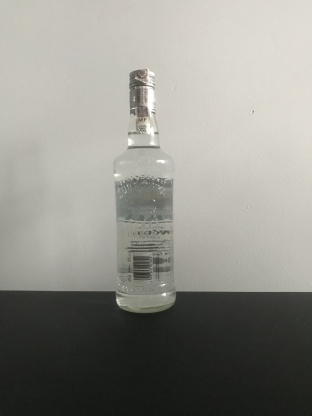nakretka: (127, 66, 157, 116)
